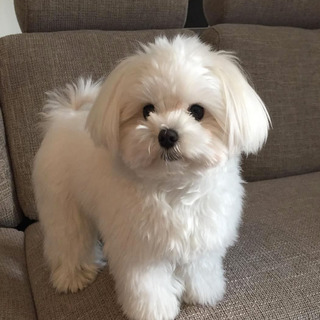perro: (77, 25, 287, 209)
